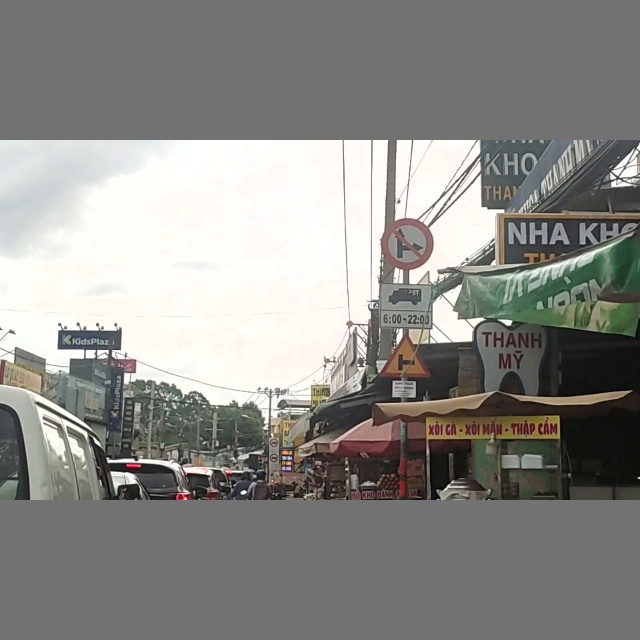P.139: (383, 219, 432, 269)
S.505a*Xe tai: (379, 285, 434, 327)
W.205b: (381, 335, 433, 377)
